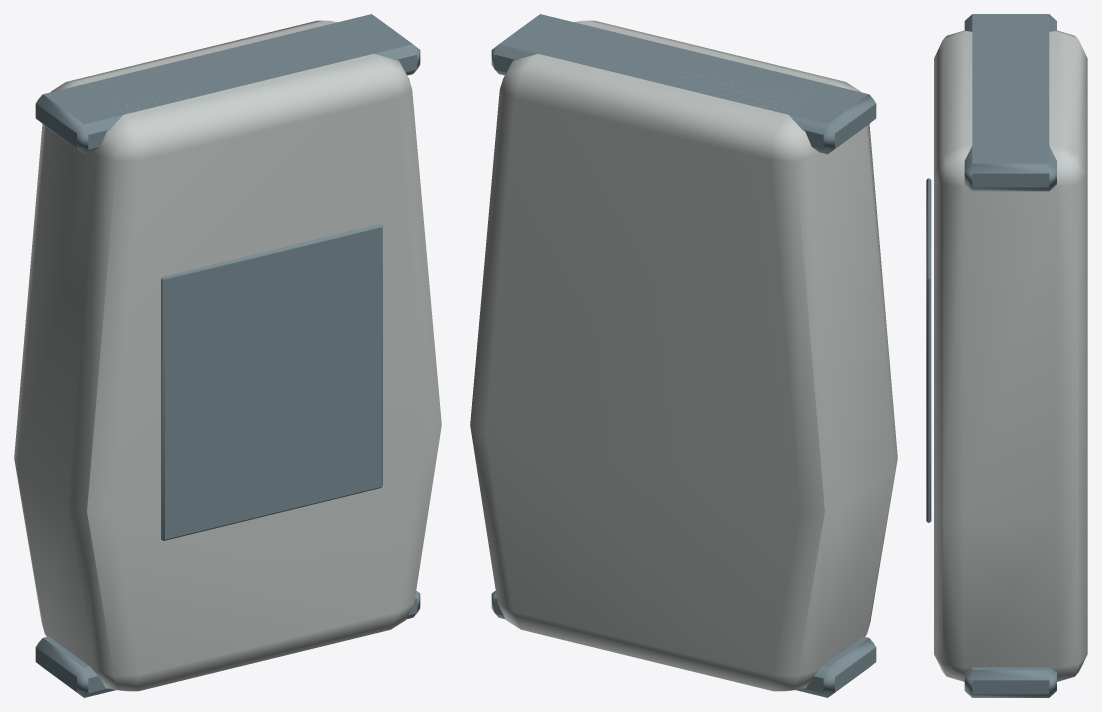
File: chips-bag.glb
The picture shows the model from 3 angles, left to right: view 1: azimuth 30°, elevation 25°; view 2: azimuth 150°, elevation 25°; view 3: azimuth 270°, elevation 25°; orthographic projection. The views are drawn at different scales.
Parts seen in each view (by area): view 1: puffed_pouch, raised_label, heat_seal.001, heat_seal; view 2: puffed_pouch, heat_seal.001, heat_seal; view 3: puffed_pouch, heat_seal.001, heat_seal, raised_label.
Part boxes in pixels (<box>): puffed_pouch: <box>14,20,441,691</box>; raised_label: <box>161,224,382,540</box>; heat_seal.001: <box>35,14,420,154</box>; heat_seal: <box>35,591,420,697</box>; puffed_pouch: <box>470,20,897,691</box>; heat_seal.001: <box>491,14,876,154</box>; heat_seal: <box>491,591,876,697</box>; puffed_pouch: <box>934,30,1087,681</box>; heat_seal.001: <box>964,14,1056,191</box>; heat_seal: <box>964,667,1056,697</box>; raised_label: <box>926,178,931,522</box>.
Bounding box in the file's own units: 0.156 × 0.23 × 0.063.
